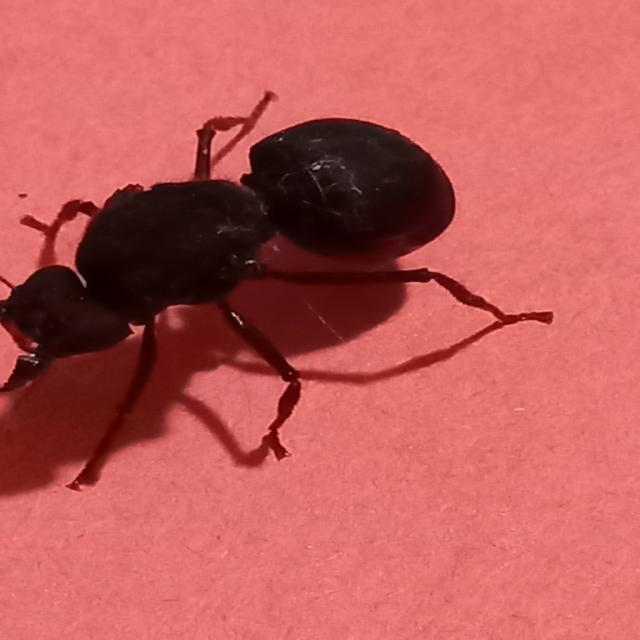Alive-Female-Dealate: (0, 88, 555, 495)
